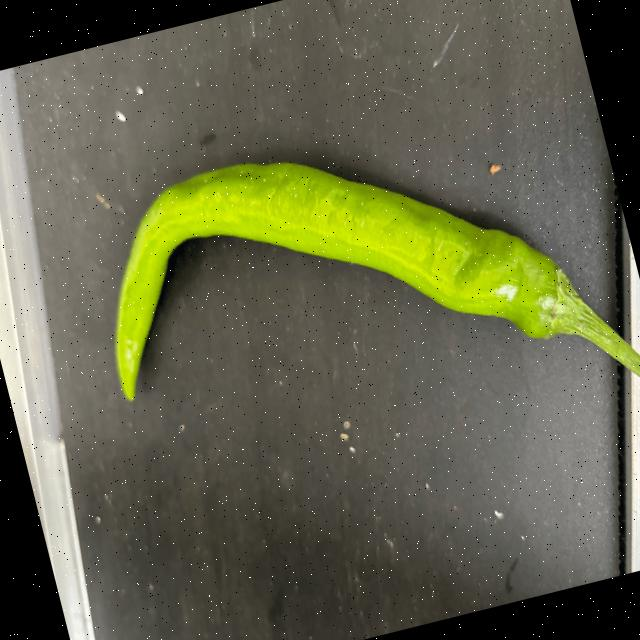chili: (113, 160, 576, 406)
